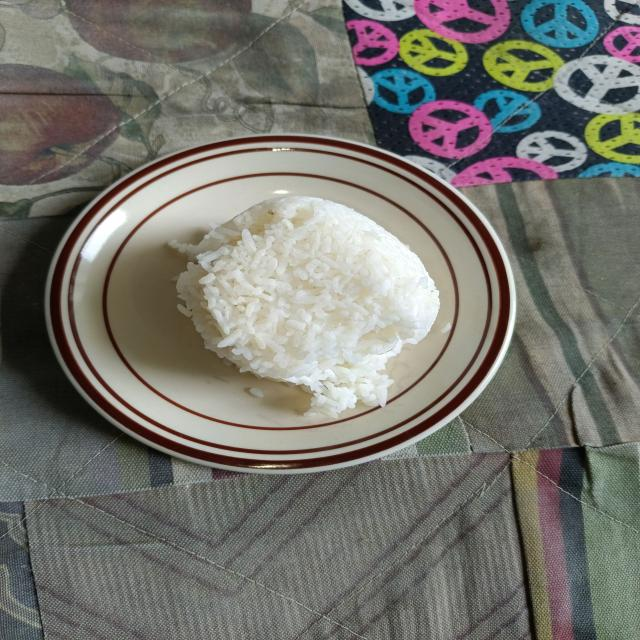Chicken -Chicken Inasal-: (172, 182, 448, 415)
